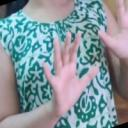hand: (41, 30, 99, 116), (99, 0, 128, 60)
